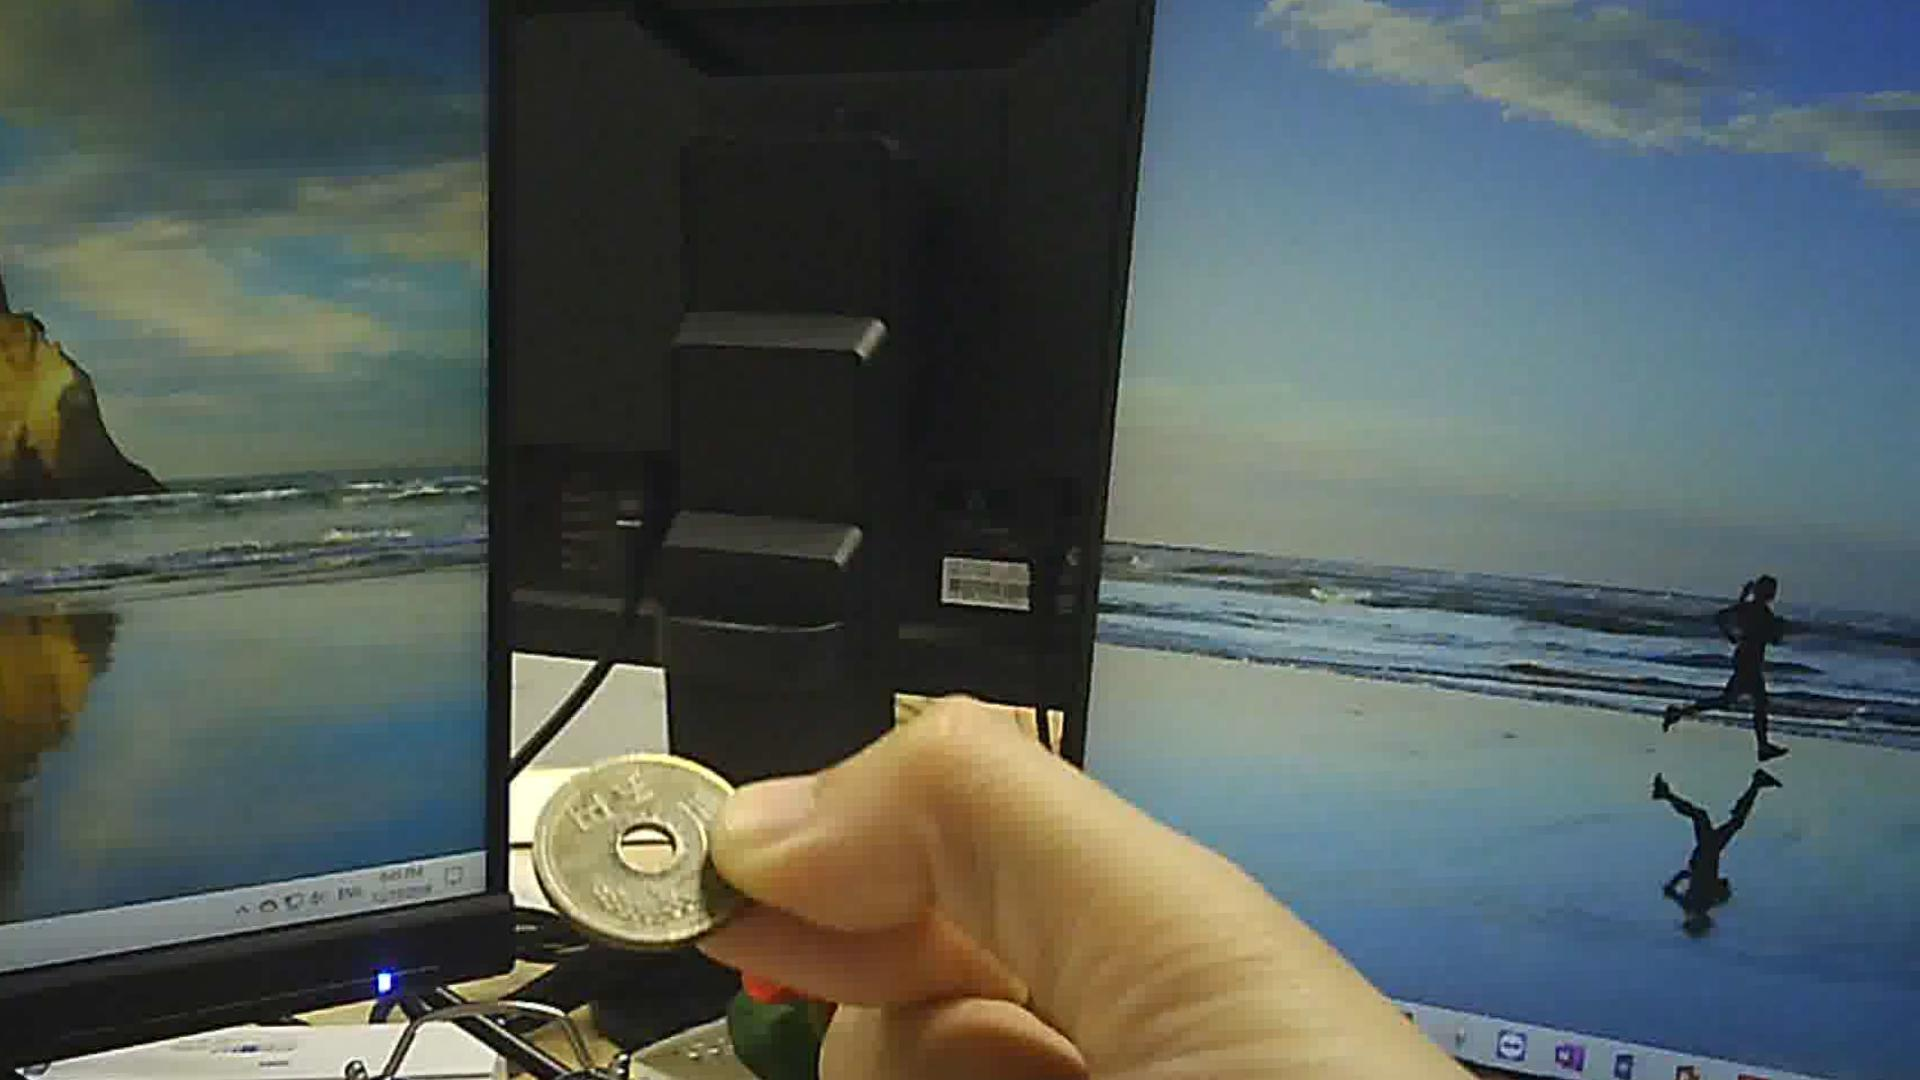5 Yen: (525, 760, 778, 967)
